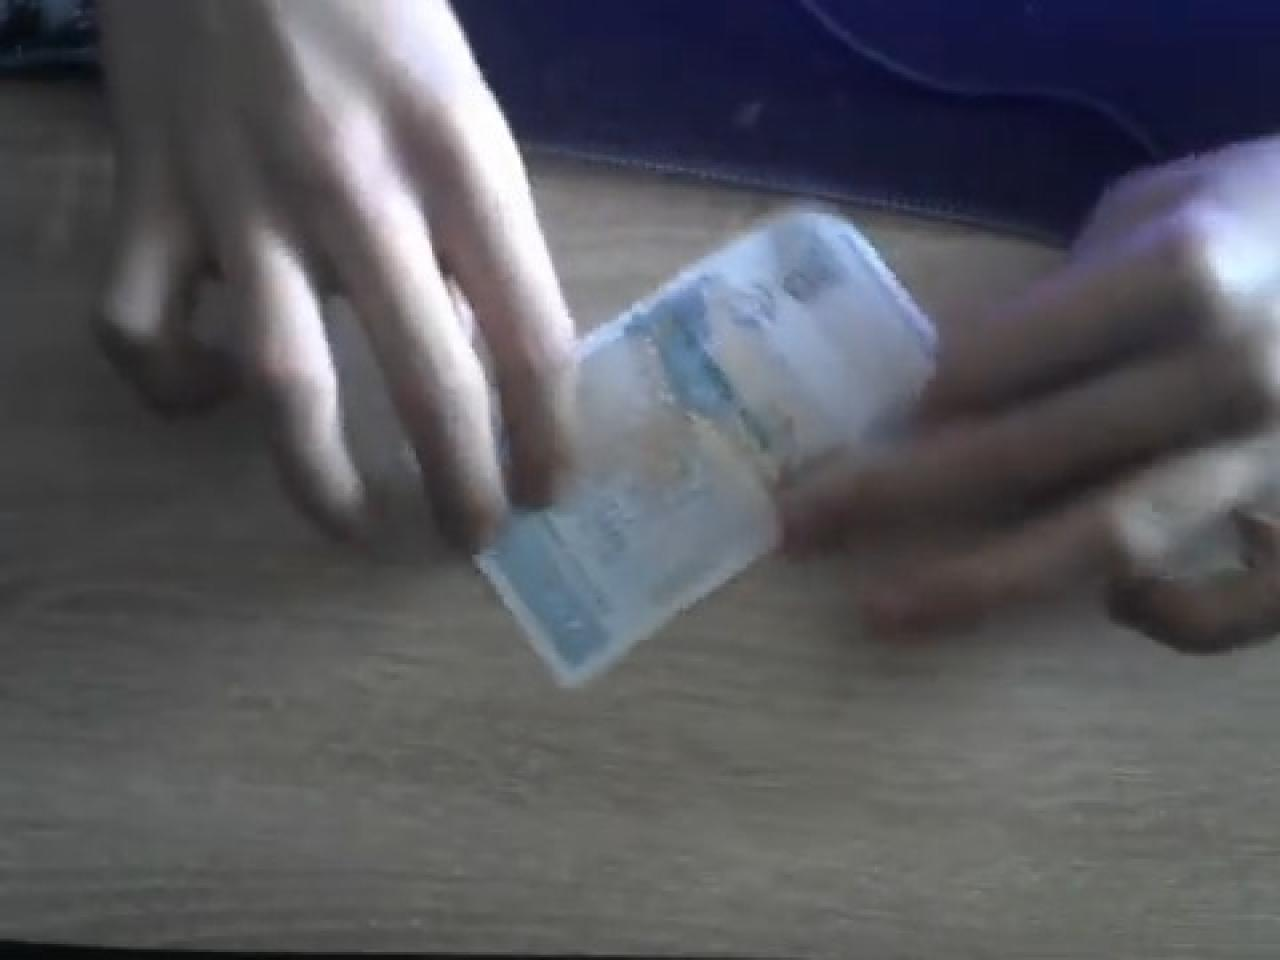20leva: (464, 200, 944, 688)
